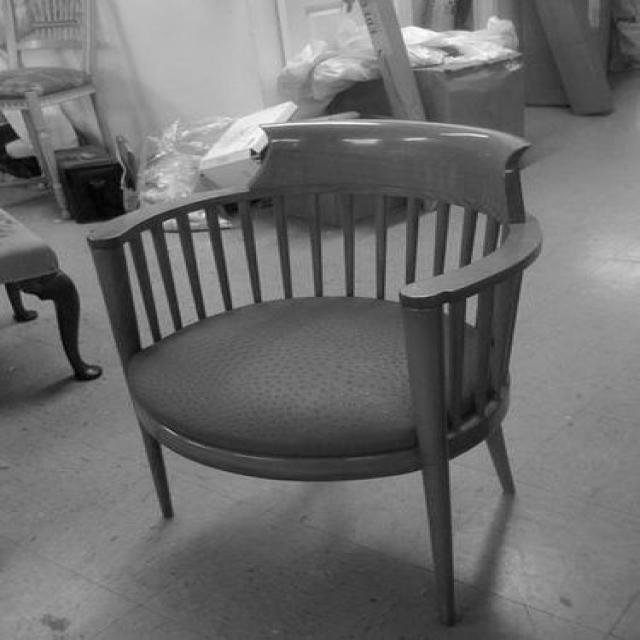chair: (87, 121, 562, 621)
